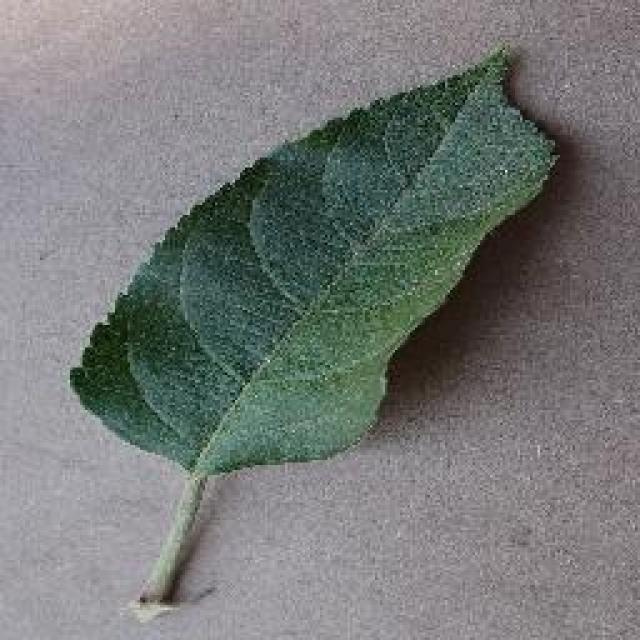apple scab disease: (68, 40, 560, 610)
